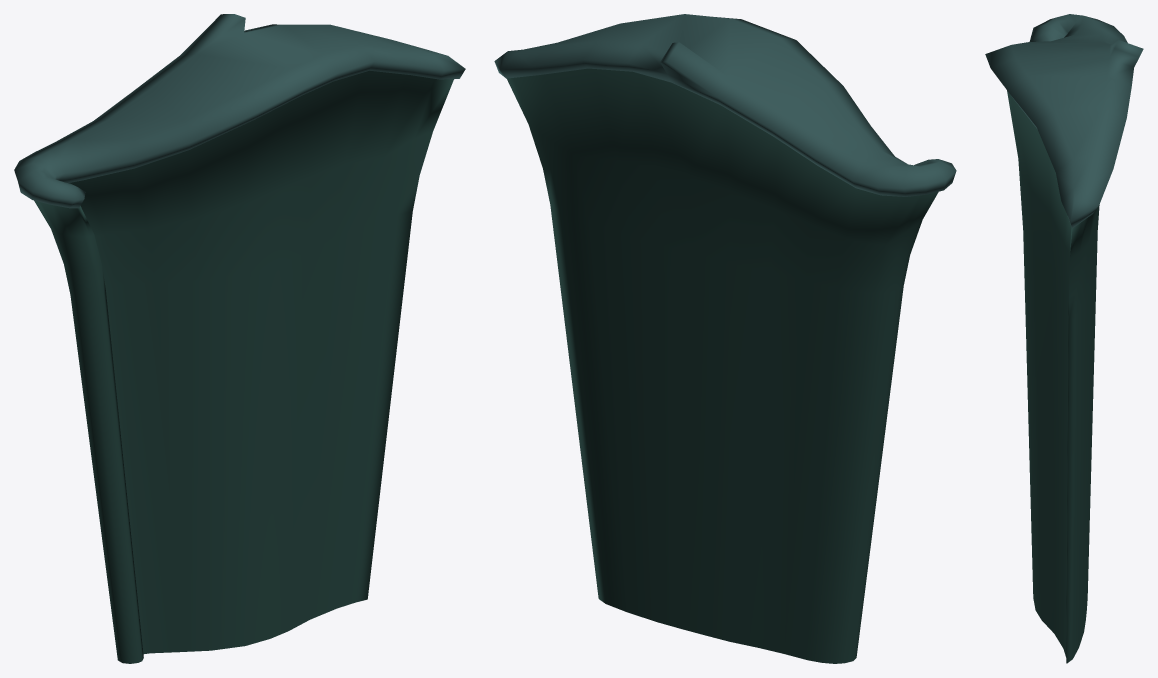
Rendered from platform_Mesh.fbx.
The picture shows the model from 3 angles, left to right: view 1: azimuth 30°, elevation 25°; view 2: azimuth 150°, elevation 25°; view 3: azimuth 270°, elevation 25°; orthographic projection. The views are drawn at different scales.
Parts seen in each view (by area): view 1: Plane; view 2: Plane; view 3: Plane.
Boxes of the visible parts, <box> form: Plane: <box>14,14,465,663</box>; Plane: <box>494,14,956,663</box>; Plane: <box>985,14,1143,663</box>.
Bounding box in the file's own units: 3.09 × 3.93 × 0.9829.
